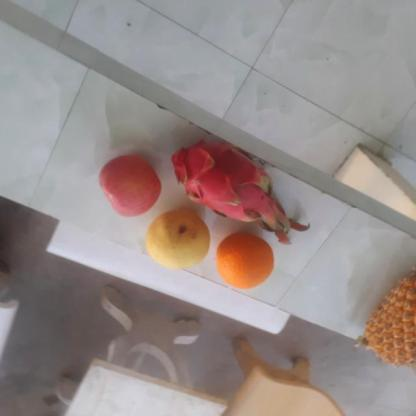apple: (97, 154, 162, 216)
orange: (213, 231, 276, 290)
pear: (141, 208, 213, 270)
pitaya: (167, 138, 281, 225)
